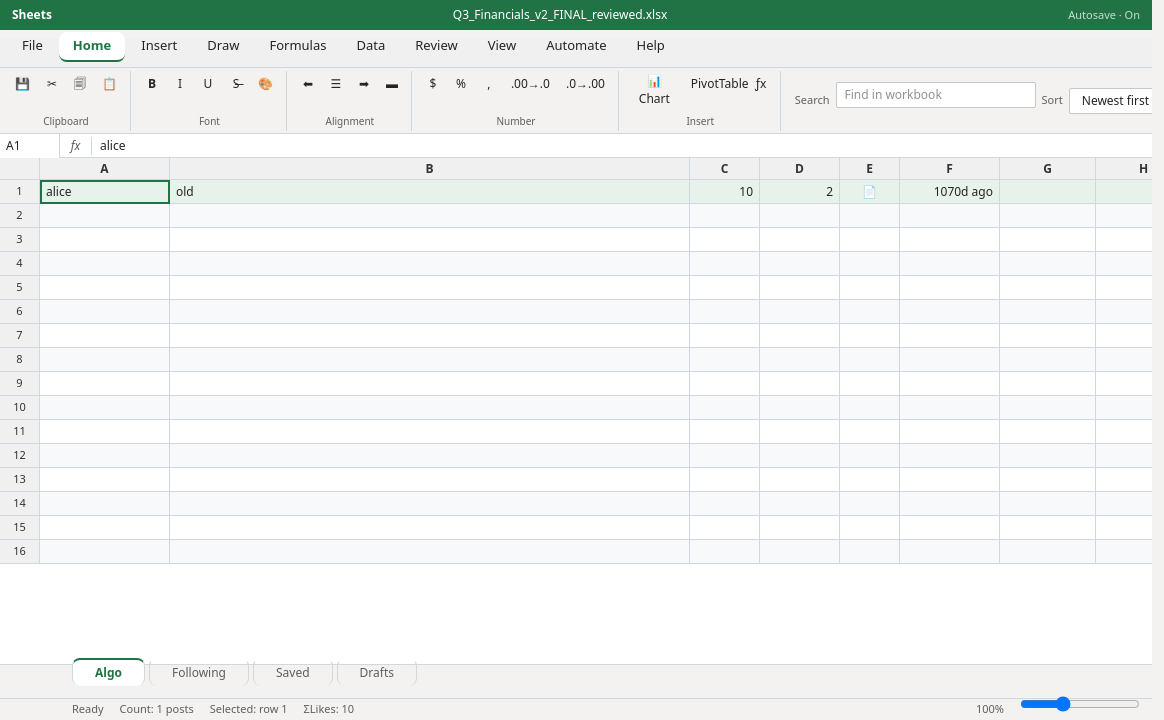
Test: LedgerPage › edits commit on Enter and the cell shows the new value
Double-click the text with test id "ledger-cell-0-B" at (430,192), box [170,180,690,204]
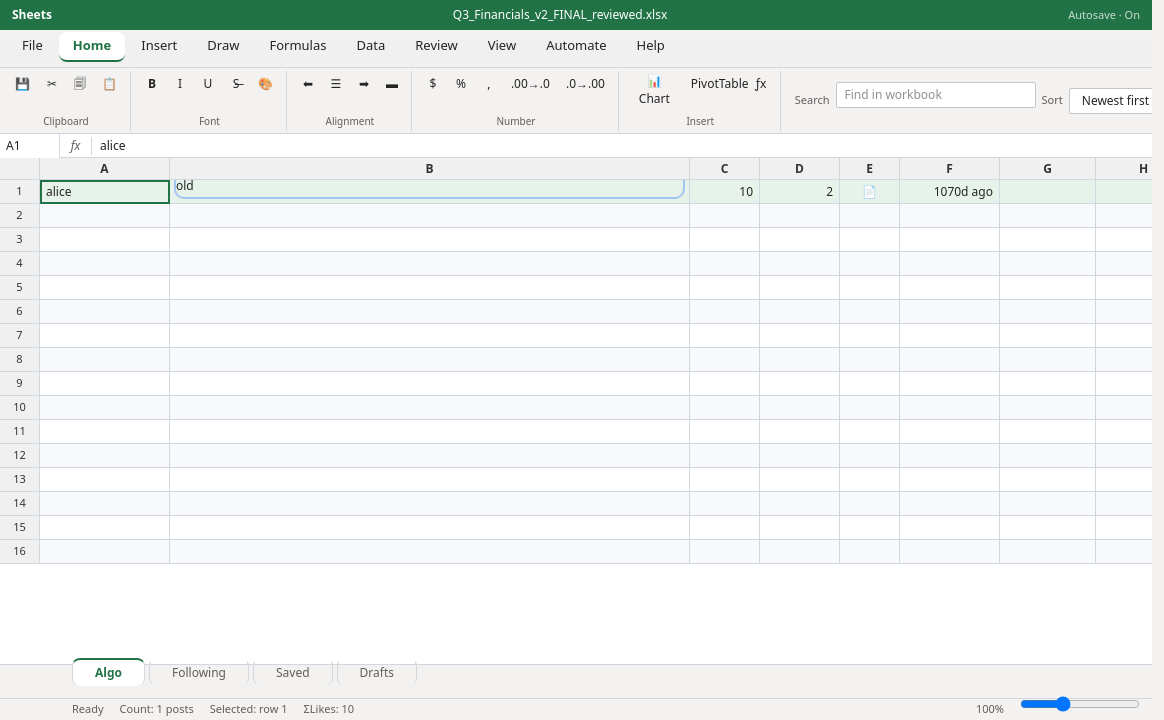
Replace the text in the field showing "old" with "brand new value". click: (430,186)
box: [176,174,683,197]
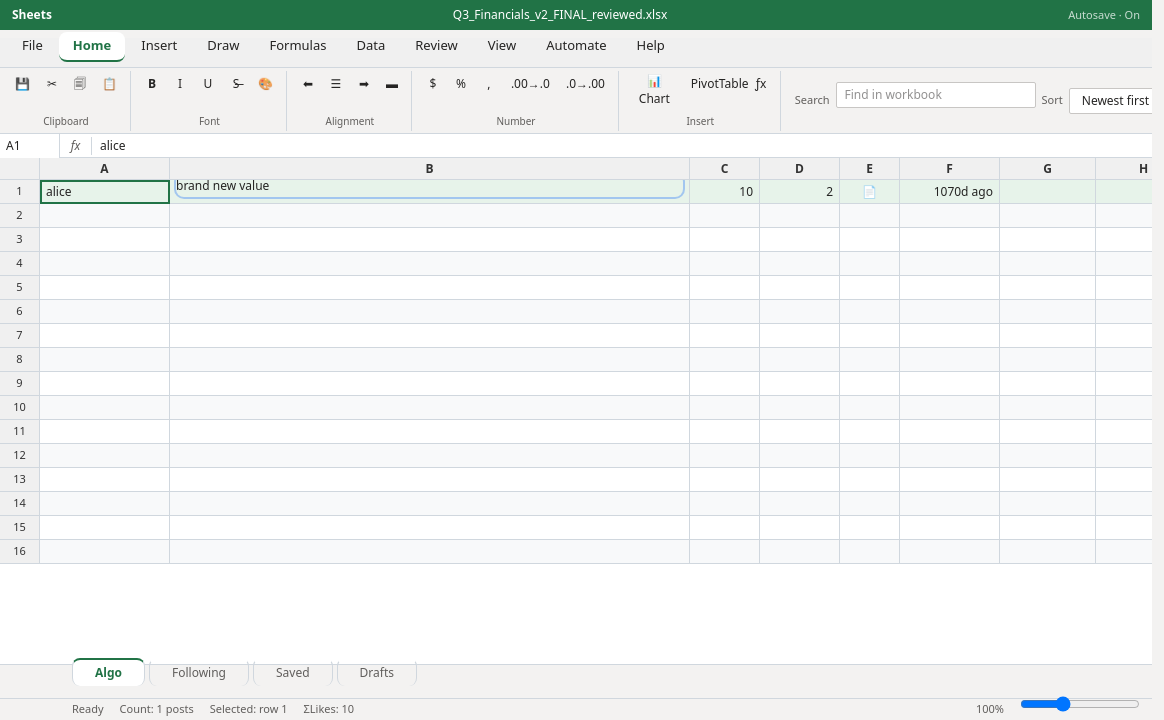
Press Enter in the field showing "old", box [176,174,683,197]
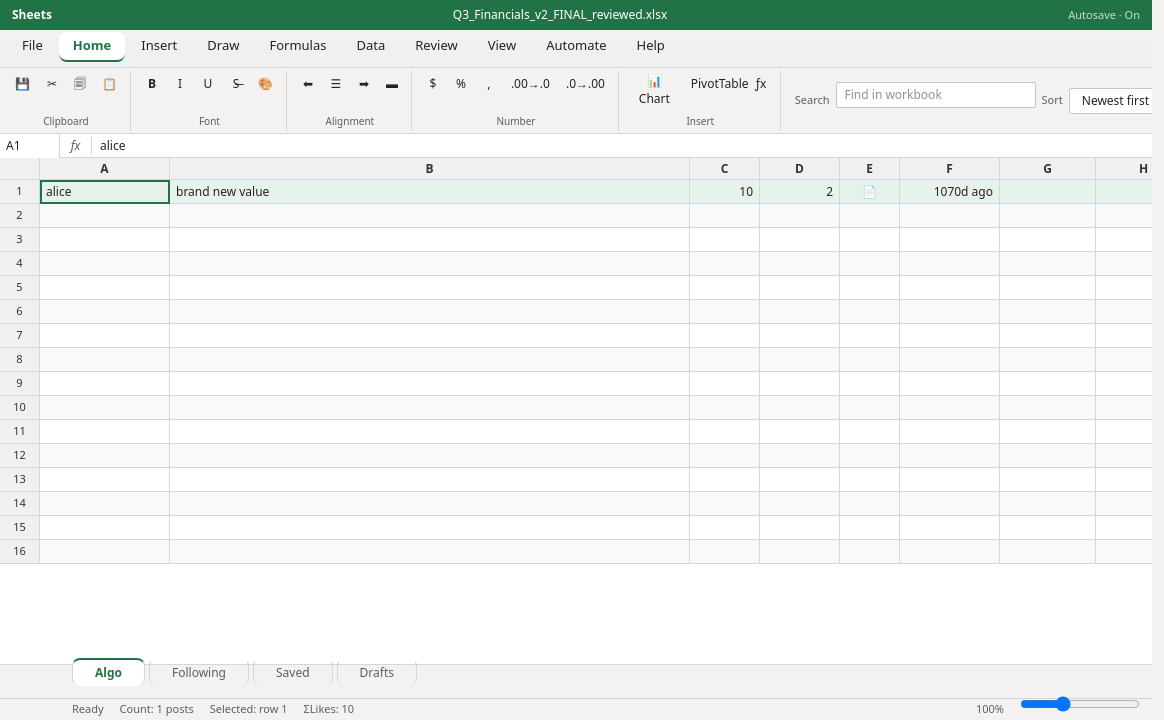
Check: the text with test id "ledger-cell-0-B" reads "brand new value", box [176,182,269,200]
